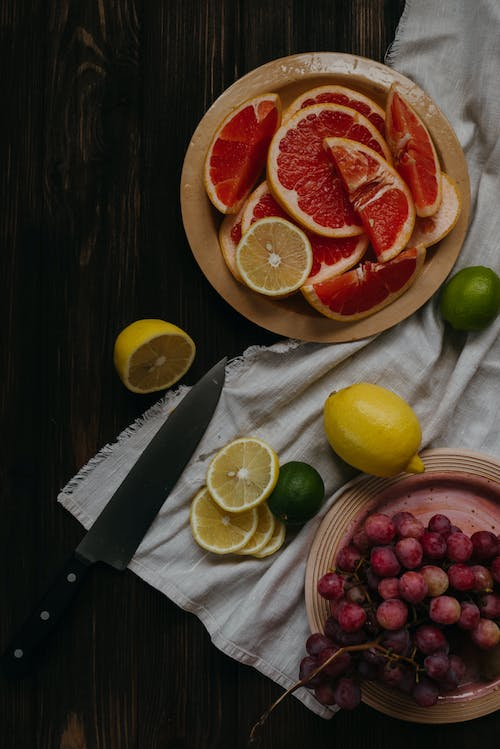knife: (0, 353, 229, 675)
